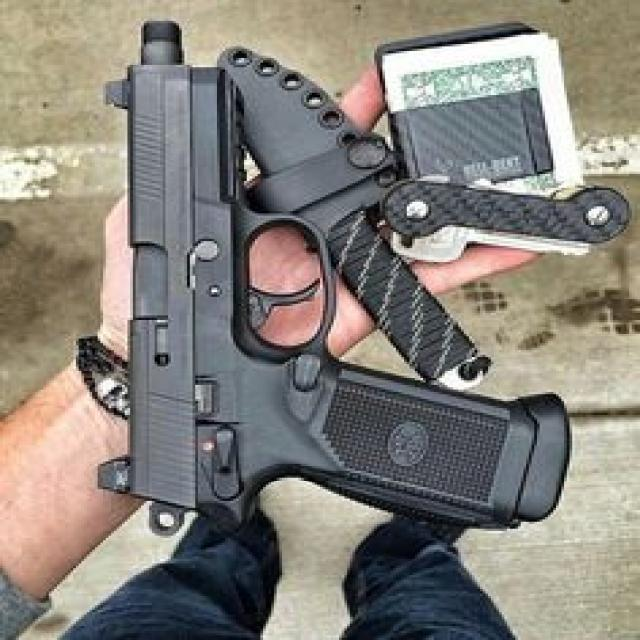semi automatic: (75, 11, 588, 536)
